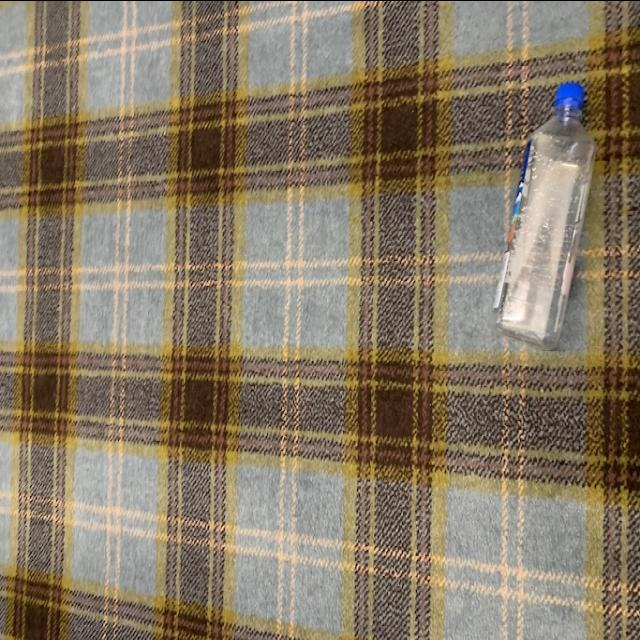litter: (492, 79, 599, 355)
